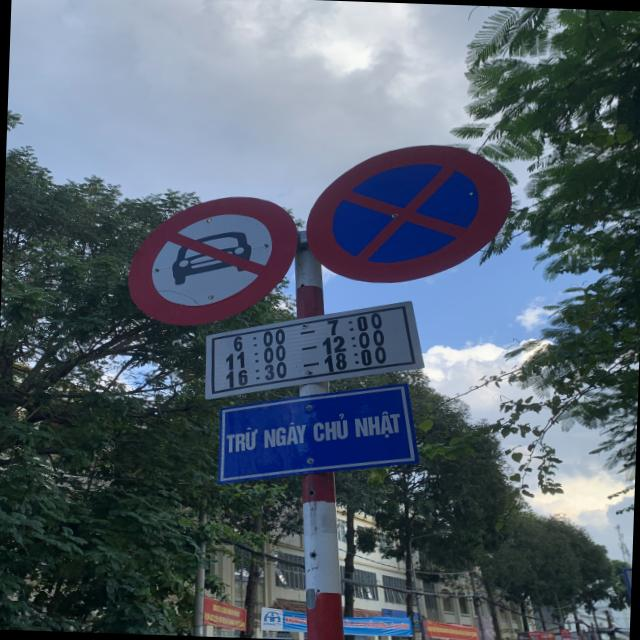Cam_Dung_Va_Dau_Xe: (305, 142, 513, 288)
Cam_O_To: (124, 192, 298, 330)
